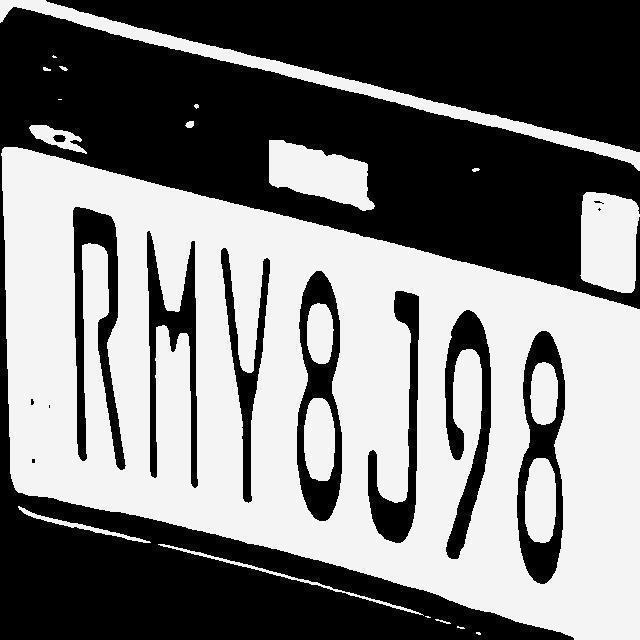8: (512, 328, 573, 586), (290, 268, 345, 529)
9: (434, 304, 494, 562)
j: (364, 282, 429, 546)
m: (141, 226, 202, 495)
r: (70, 197, 128, 471)
y: (218, 242, 270, 510)
